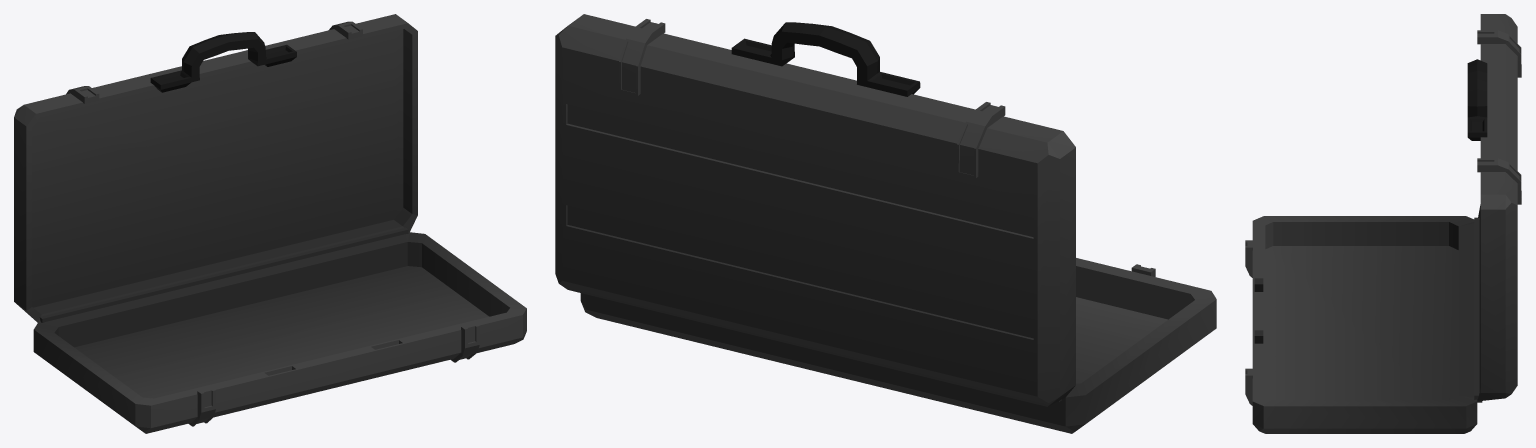
File: SuitcaseV1Open.fbx
3 views of the same model, side by side, from view 1: azimuth 30°, elevation 25°; view 2: azimuth 150°, elevation 25°; view 3: azimuth 270°, elevation 25° (orthographic). The views are drawn at different scales.
Visible parts, largest first — view 1: SuitcaseV1Open_UpperHalf, SuitcaseV1Open; view 2: SuitcaseV1Open_UpperHalf, SuitcaseV1Open; view 3: SuitcaseV1Open, SuitcaseV1Open_UpperHalf.
Part boxes in pixels (bbox=[...]): SuitcaseV1Open_UpperHalf: bbox=[14, 14, 417, 322]; SuitcaseV1Open: bbox=[33, 227, 526, 433]; SuitcaseV1Open_UpperHalf: bbox=[555, 14, 1075, 406]; SuitcaseV1Open: bbox=[580, 258, 1216, 433]; SuitcaseV1Open: bbox=[1245, 216, 1482, 433]; SuitcaseV1Open_UpperHalf: bbox=[1467, 14, 1521, 401].
Bounding box in the file's own units: 80 × 54.45 × 49.11.
